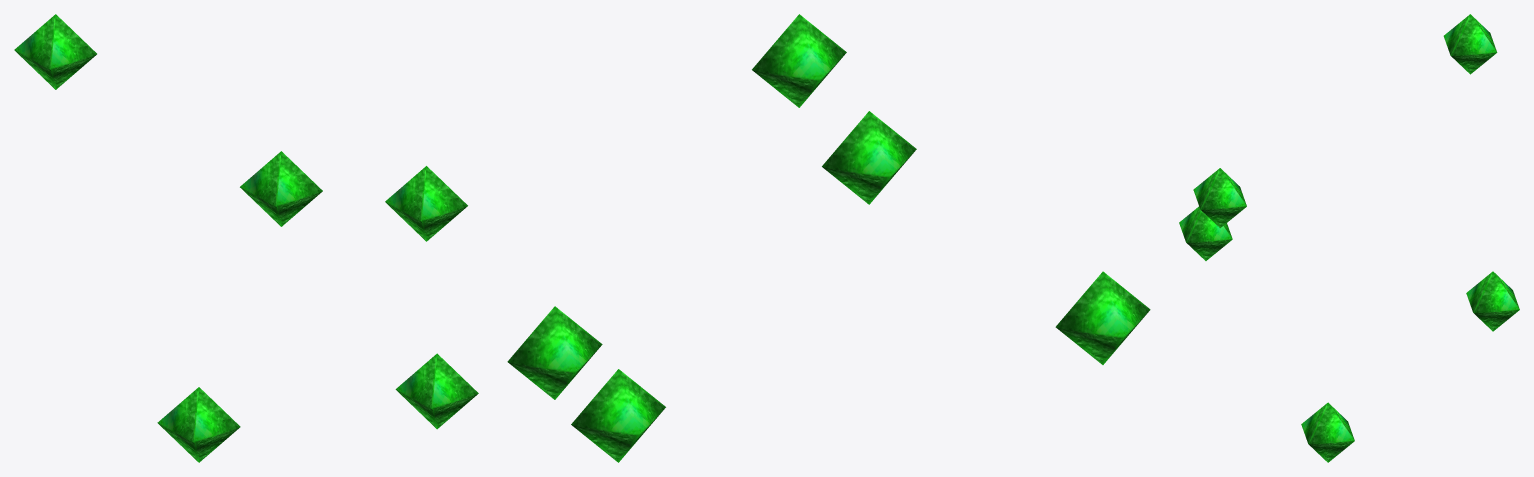
The model's file is unmowi.dae.
3 renders of one model, left to right at view 1: azimuth 30°, elevation 25°; view 2: azimuth 150°, elevation 25°; view 3: azimuth 270°, elevation 25°, orthographic. The views are drawn at different scales.
Parts seen in each view (by area): view 1: bd03, bd04, bd01, bd00, bd02; view 2: bd00, bd02, bd01, bd04, bd03; view 3: bd00, bd01, bd04, bd03, bd02.
Part boxes in pixels (x1,y1,x2,y2): bd03: [395, 353, 478, 429]; bd04: [240, 151, 322, 226]; bd01: [385, 166, 467, 241]; bd00: [14, 14, 96, 89]; bd02: [157, 387, 240, 462]; bd00: [822, 111, 916, 204]; bd02: [1055, 271, 1150, 364]; bd01: [752, 14, 846, 107]; bd04: [507, 306, 602, 399]; bd03: [571, 369, 665, 462]; bd00: [1443, 14, 1497, 74]; bd01: [1193, 168, 1246, 228]; bd04: [1466, 271, 1519, 331]; bd03: [1301, 402, 1354, 462]; bd02: [1179, 206, 1232, 260].
Size of what is drawn, in the model's own units: 1.04 by 1.04 by 1.13.
1 material, 1 textured.
